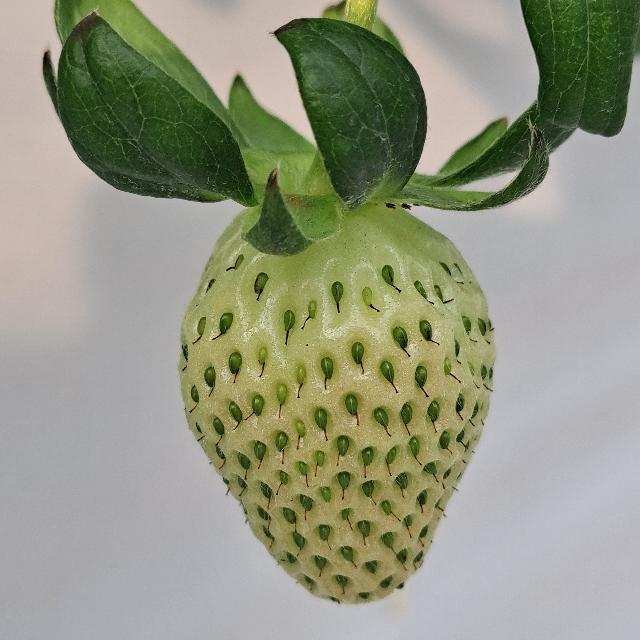Health_25: (178, 208, 497, 604)
